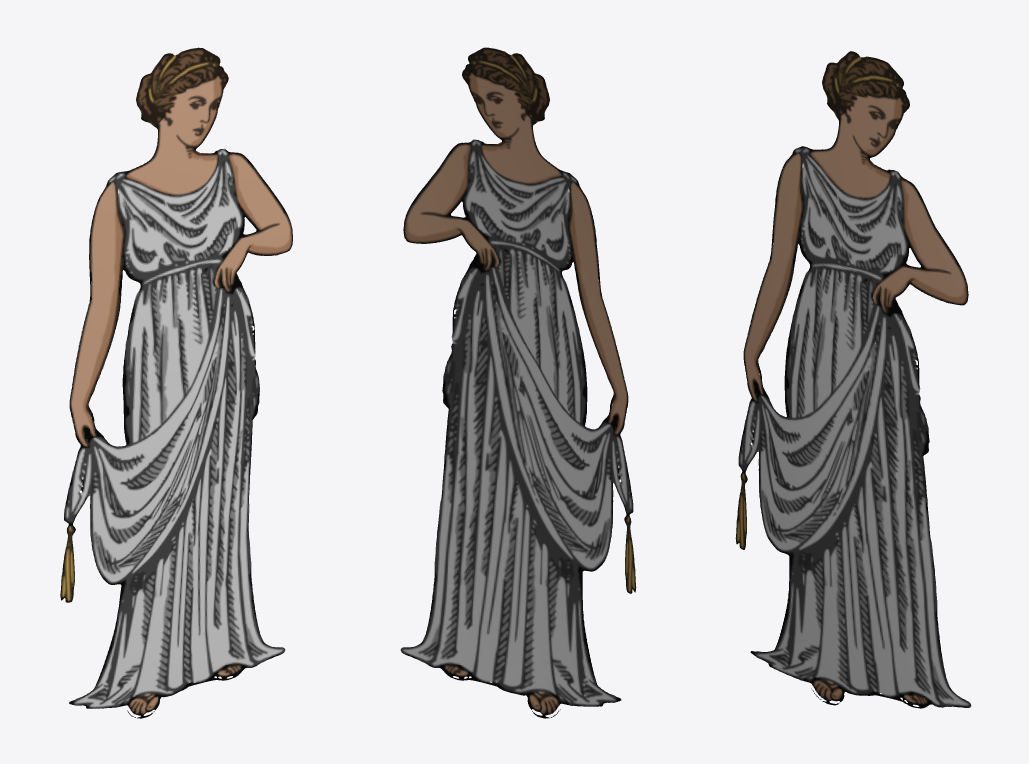
The model's file is Publiek2.fbx.
3 renders of one model, left to right at view 1: azimuth 30°, elevation 25°; view 2: azimuth 150°, elevation 25°; view 3: azimuth 330°, elevation 25°, orthographic.
Visible parts, largest first — view 1: Publiek2; view 2: Publiek2; view 3: Publiek2.
Part boxes in pixels (x1,y1,x2,y2): Publiek2: (60, 47, 292, 718); Publiek2: (400, 47, 636, 718); Publiek2: (735, 51, 971, 708).
Size of the model in its own units: 0.7662 by 1.53 by 0.0854.
1 material, 1 textured.
